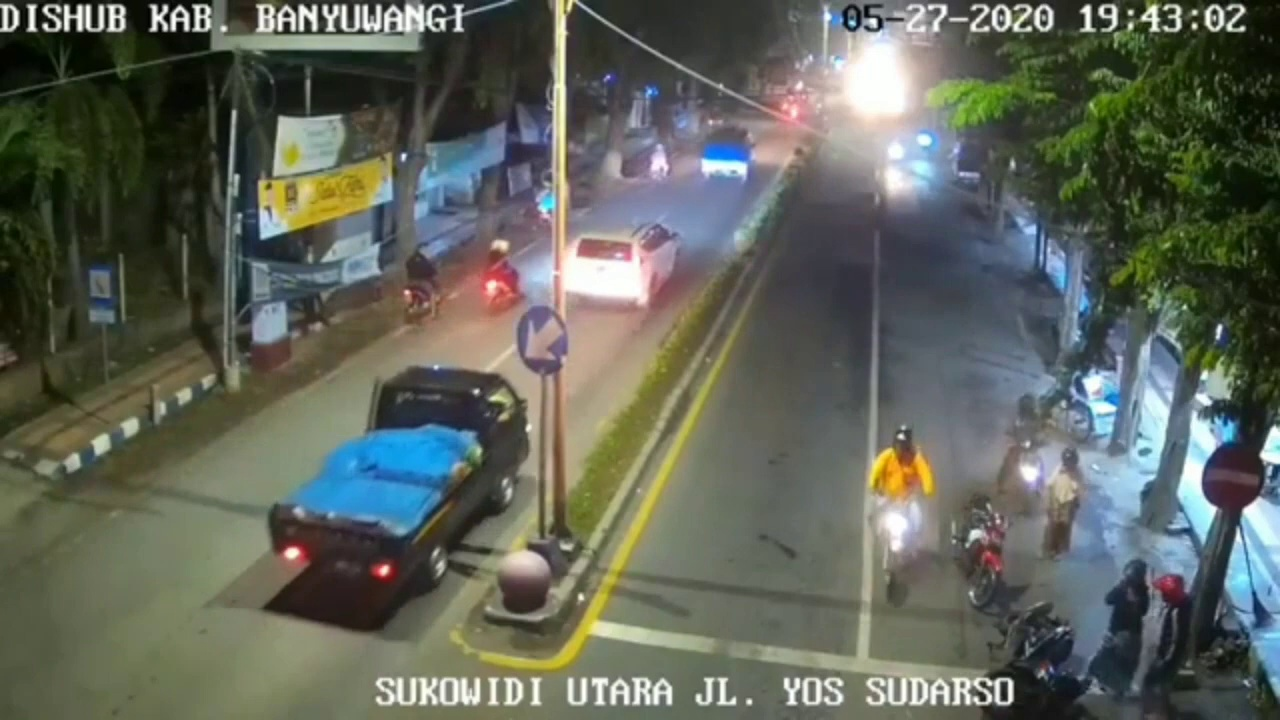car: (272, 364, 532, 596), (567, 218, 680, 311), (701, 123, 756, 191)
motorbike: (868, 421, 929, 605), (1006, 393, 1045, 520), (401, 236, 441, 323), (484, 240, 523, 311)
